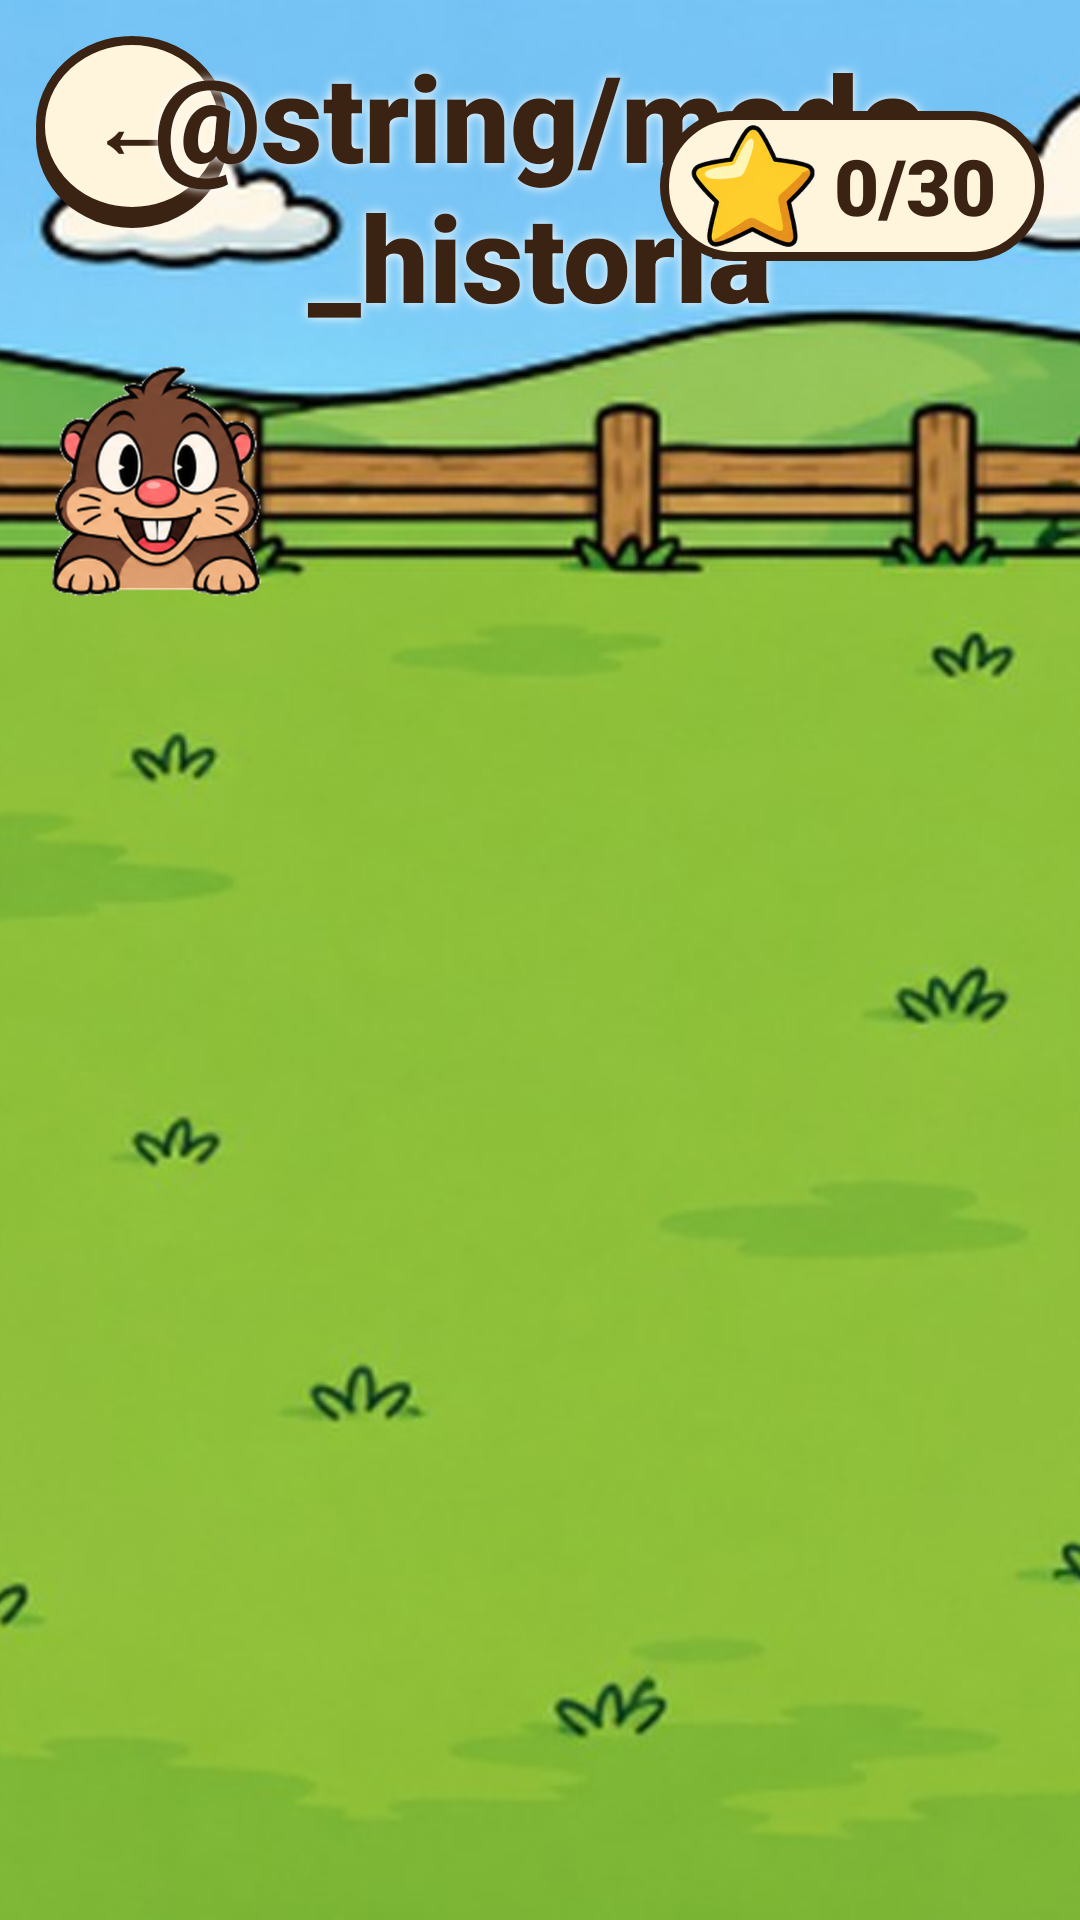

Point at icon controls on the screen. Image size 1080x1920, points as (x,y).
estrella llena: (753,186)
topo feliz: (156,468)
